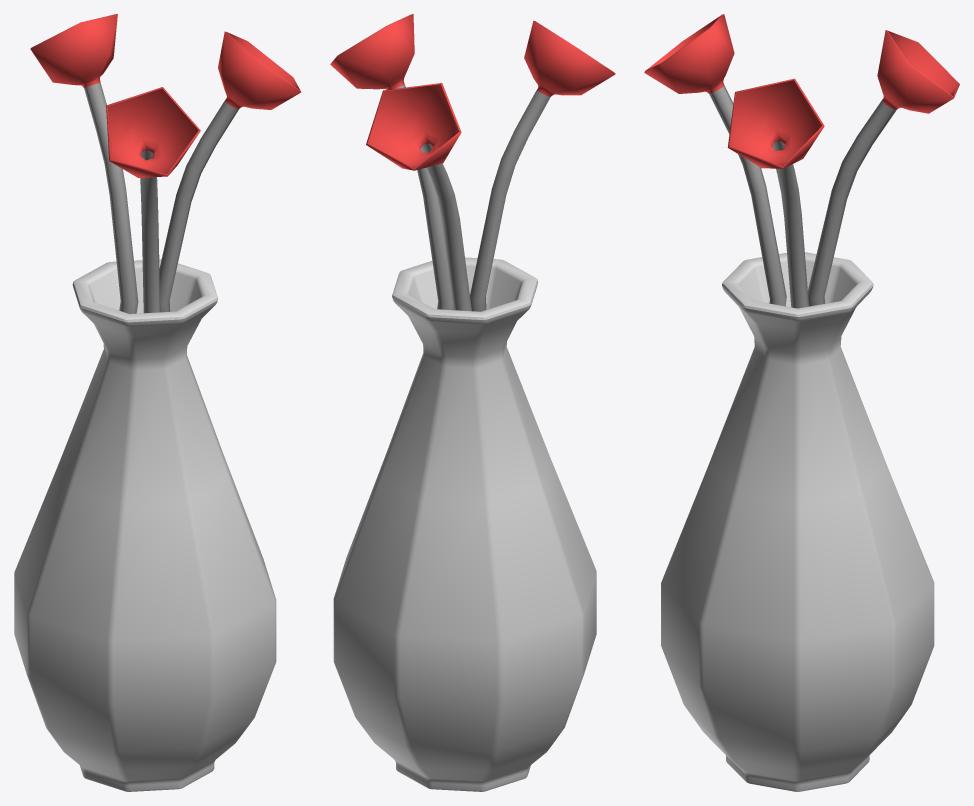
The model's file is vase.fbx.
3 renders of one model, left to right at view 1: azimuth 30°, elevation 25°; view 2: azimuth 150°, elevation 25°; view 3: azimuth 270°, elevation 25°, orthographic.
Visible parts, largest first — view 1: Vase, Flowers; view 2: Vase, Flowers; view 3: Vase, Flowers.
Part boxes in pixels (x1,y1,x2,y2): Vase: [14, 259, 276, 791]; Flowers: [30, 14, 301, 313]; Vase: [333, 257, 596, 791]; Flowers: [330, 14, 615, 311]; Vase: [661, 252, 934, 791]; Flowers: [644, 14, 959, 308].
Bounding box in the file's own units: 40.01 × 106 × 41.85.
